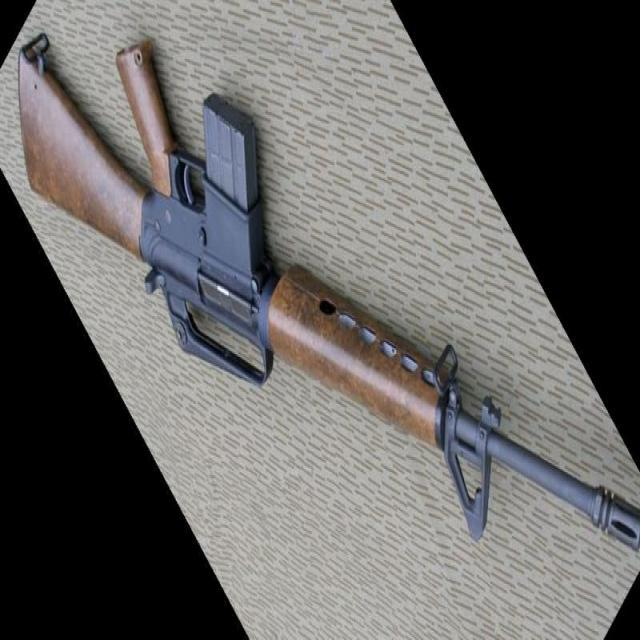weapon: (16, 30, 640, 556)
